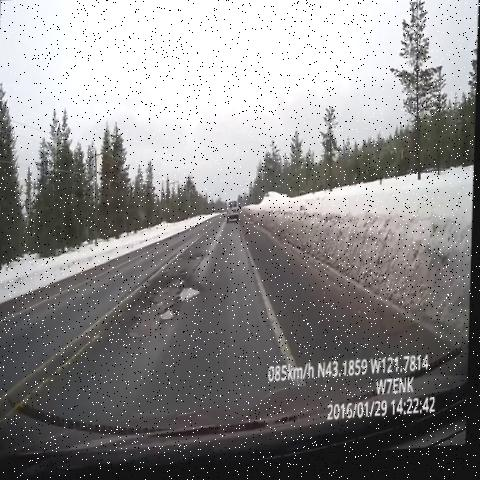pothole: (129, 271, 206, 352), (186, 249, 213, 278)
